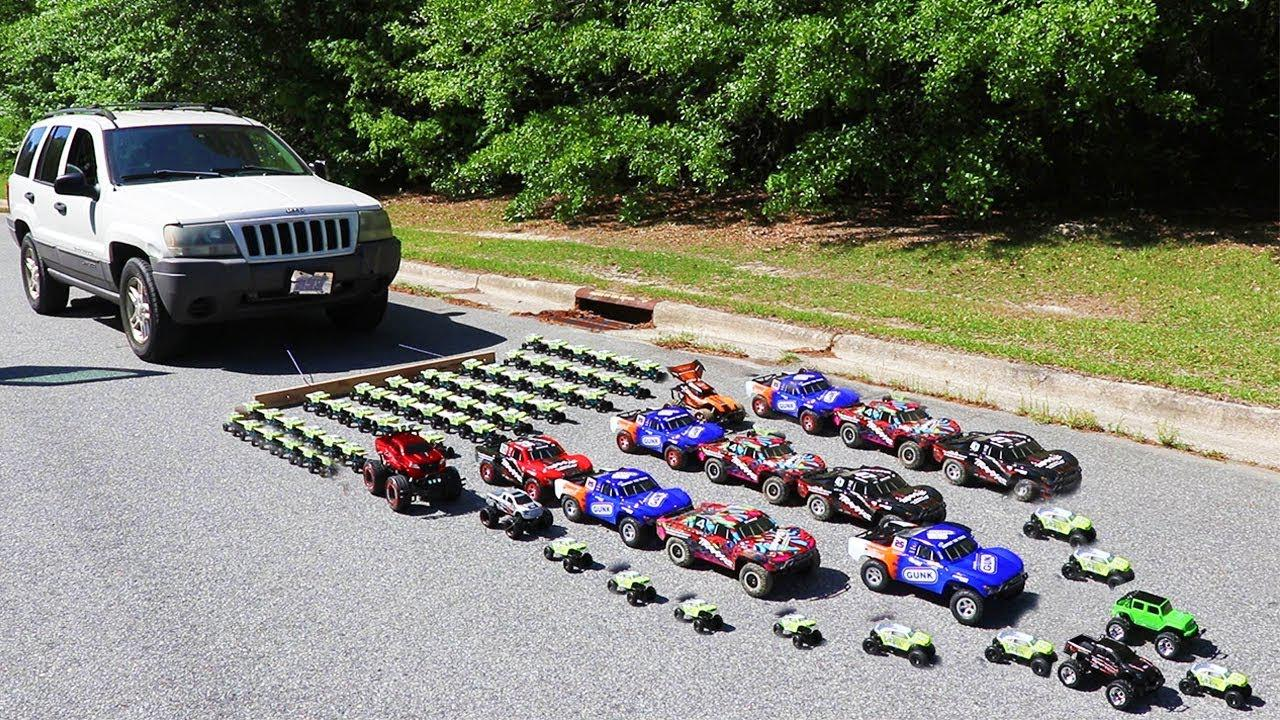car: (16, 56, 400, 360)
